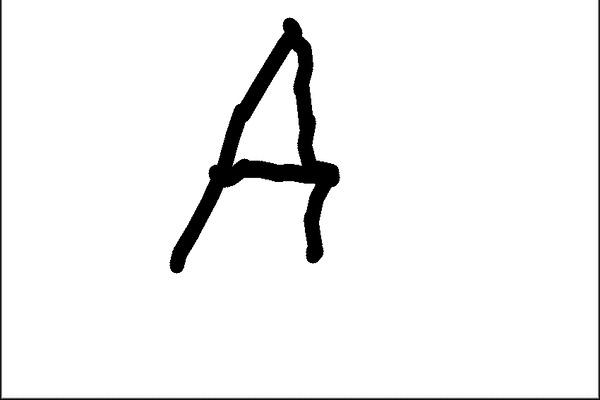A: (149, 14, 340, 278)
